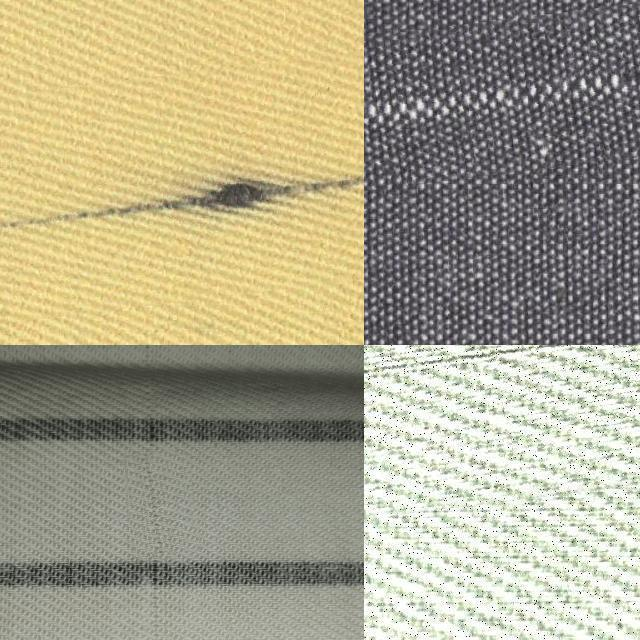stains: (0, 44, 364, 308), (364, 345, 640, 526), (364, 10, 640, 185), (124, 448, 197, 556), (98, 595, 233, 640)
